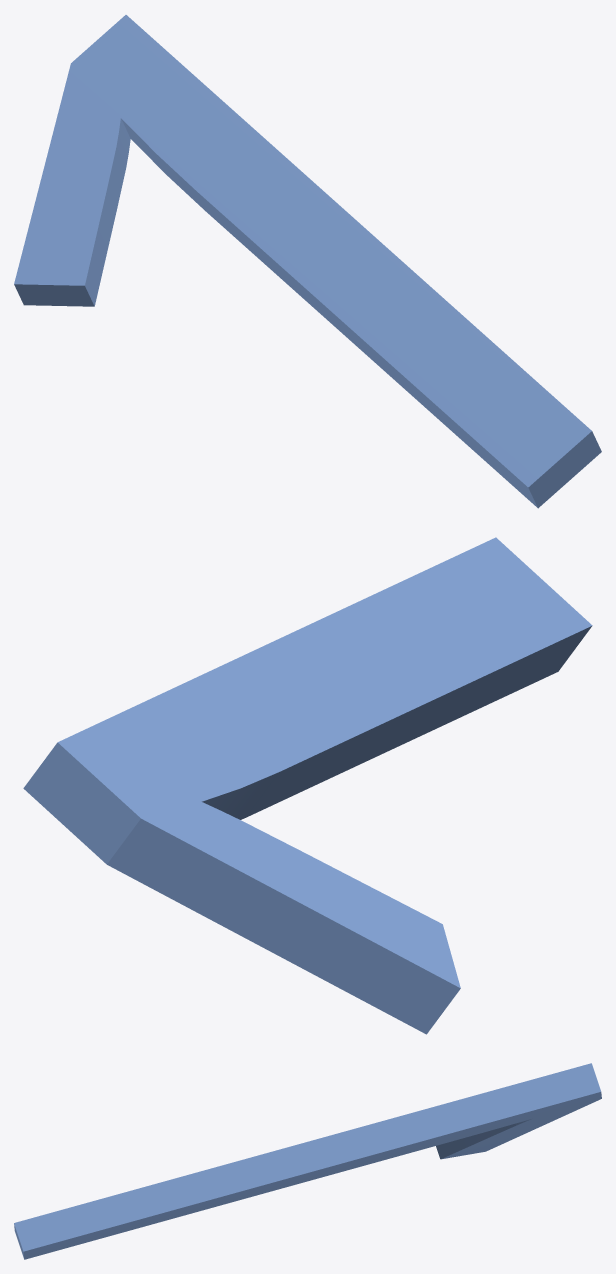
File: New_Number_1.gltf
The picture shows the model from 3 angles, top to bottom: view 1: azimuth 30°, elevation 25°; view 2: azimuth 150°, elevation 25°; view 3: azimuth 270°, elevation 25°; orthographic projection. The views are drawn at different scales.
Parts seen in each view (by area): view 1: Part 721; view 2: Part 721; view 3: Part 721.
Part boxes in pixels (left/top/right/bottom): Part 721: left=14, top=15, right=601, bottom=508; Part 721: left=23, top=537, right=592, bottom=1034; Part 721: left=14, top=1063, right=601, bottom=1259.
Bounding box in the file's own units: 0.00219 × 0.00168 × 0.00494.
